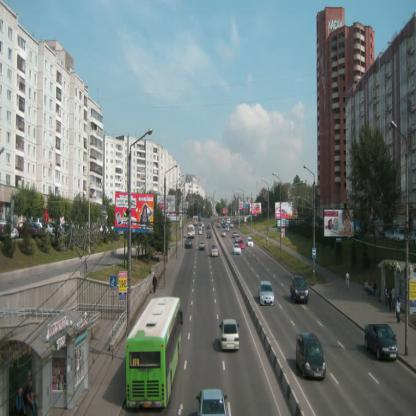bus: (127, 295, 184, 411), (188, 227, 196, 236)
car: (366, 325, 398, 363), (297, 334, 324, 378), (199, 389, 227, 416), (220, 320, 240, 351), (293, 277, 310, 302), (260, 282, 275, 308), (232, 246, 242, 256), (199, 243, 207, 254), (212, 246, 219, 258), (185, 241, 193, 251), (239, 238, 245, 250), (248, 238, 254, 249), (209, 231, 214, 239), (226, 225, 231, 233), (200, 227, 204, 236), (223, 233, 227, 240), (218, 223, 222, 227)
